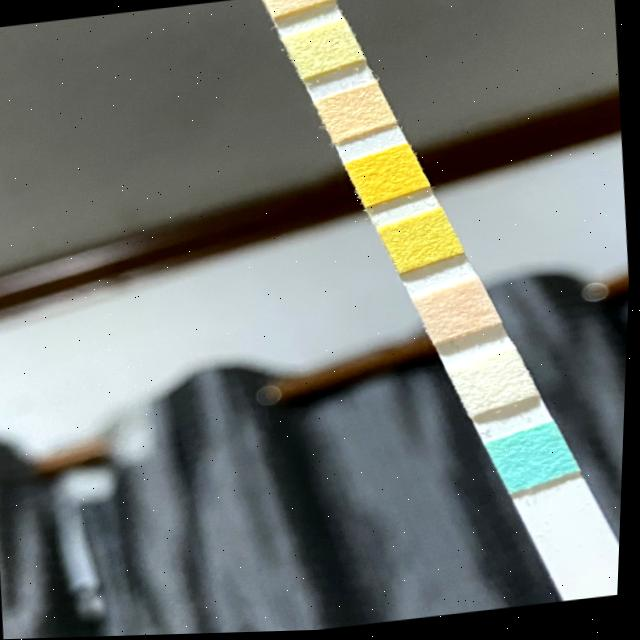Bilirubin: (463, 365, 529, 408)
Blood: (357, 153, 417, 201)
Glucose: (504, 434, 567, 486)
Ketone: (426, 288, 489, 337)
Protein: (294, 29, 354, 71)
SpGravity: (392, 223, 454, 263)
Urobilinogen: (268, 0, 321, 10)
pH: (326, 91, 385, 135)
